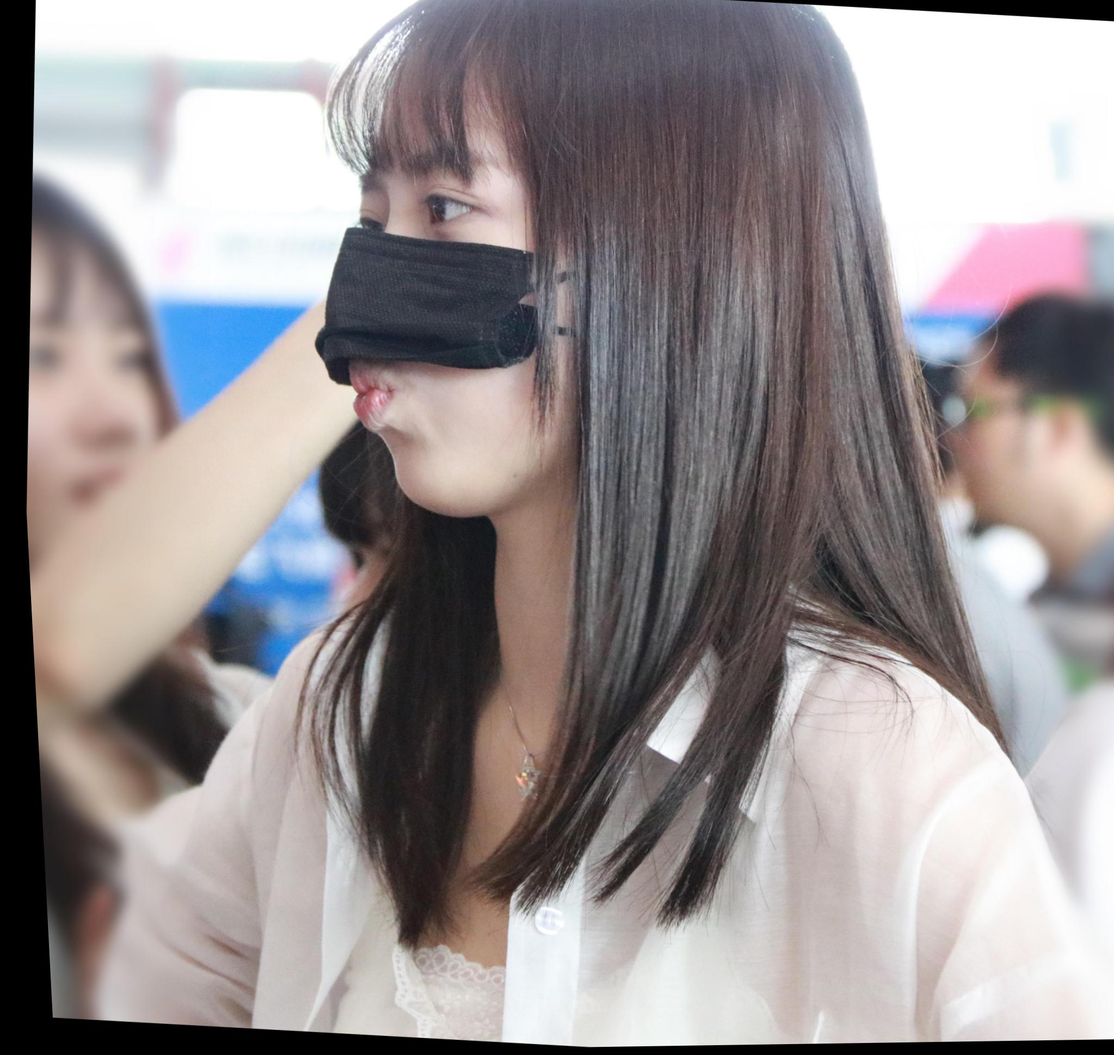NONE: (12, 272, 192, 659), (930, 382, 1068, 525)
WRONG: (306, 88, 617, 528)
